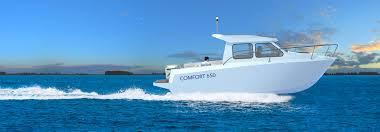Ship: (154, 34, 338, 95)
